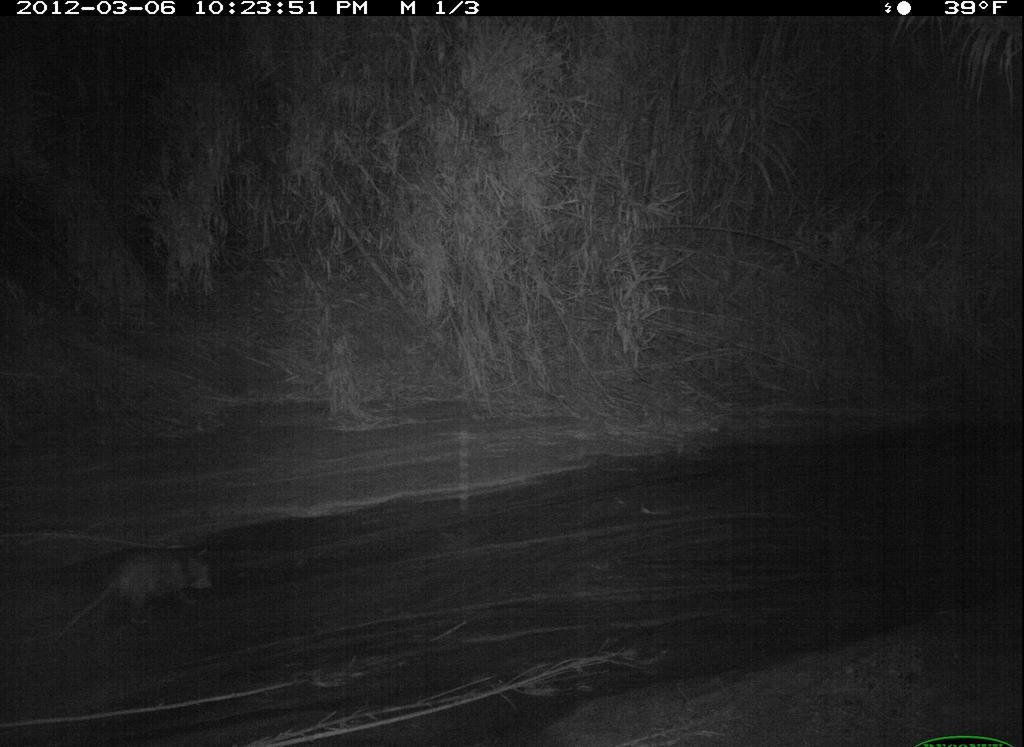opossum: (56, 538, 221, 642)
